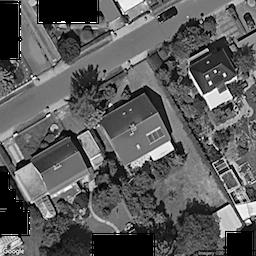roofs: (100, 94, 170, 166), (32, 137, 89, 194), (188, 47, 237, 93)
